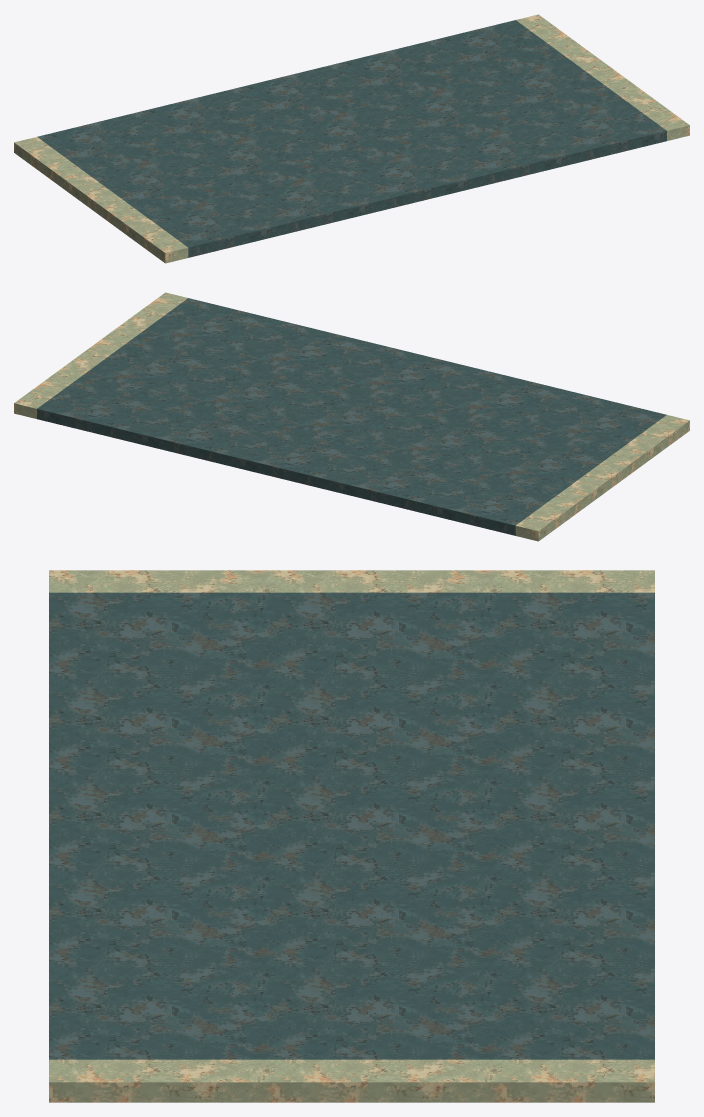
Rendered from return_ramp_skin.glb.
3 views of the same model, one above another, from view 1: azimuth 30°, elevation 25°; view 2: azimuth 150°, elevation 25°; view 3: azimuth 270°, elevation 25° (orthographic). The views are drawn at different scales.
Parts seen in each view (by area): view 1: HardwareSkin; view 2: HardwareSkin; view 3: HardwareSkin.
Boxes of the visible parts, x1,y1,x2,y2 form: HardwareSkin: (14, 14, 689, 263); HardwareSkin: (14, 292, 689, 541); HardwareSkin: (49, 570, 654, 1102).
Size of the model in its own units: 8 by 0.15 by 4.
Materials: 1 (1 with a texture image).
